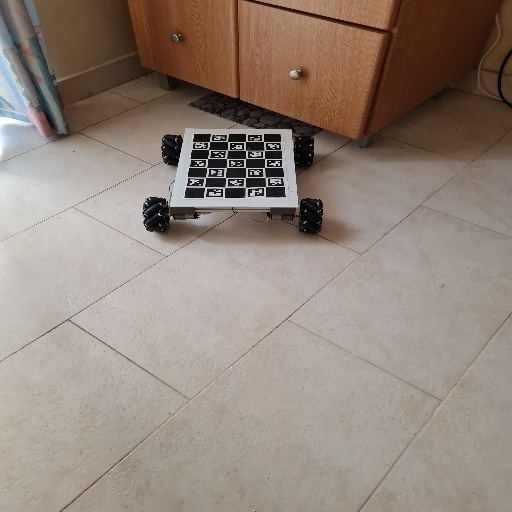Omniwheel: (141, 127, 324, 241)
